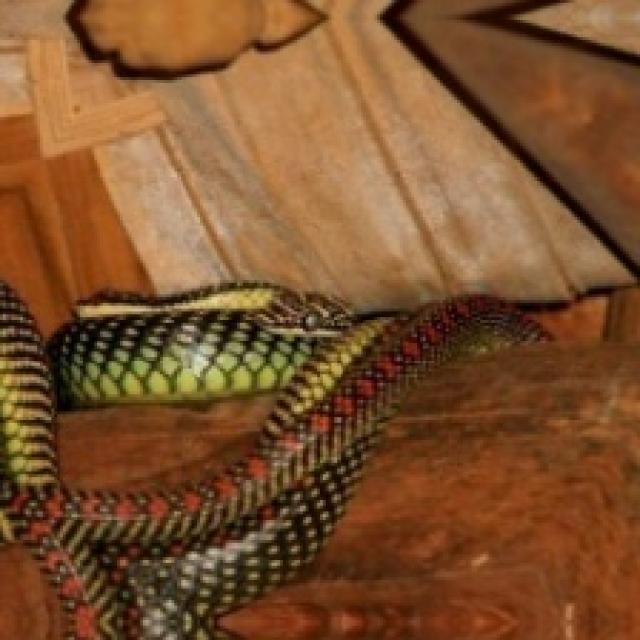paradise tree snake: (0, 282, 536, 640)
